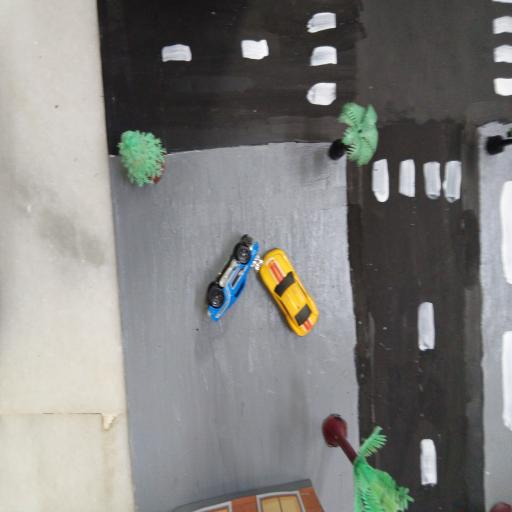car crash: (196, 222, 321, 340)
